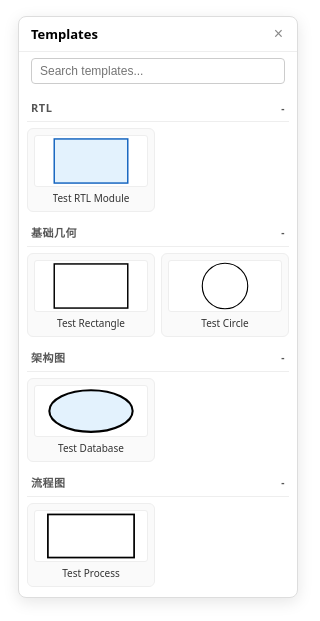
Test: TemplatePanel › collapses a category when header is clicked
Expected: the text "Test Circle" is shown, [201,316,249,330]
// Click category header to collapse
Click the text "基础几何" at (54, 232), box [31,224,77,240]
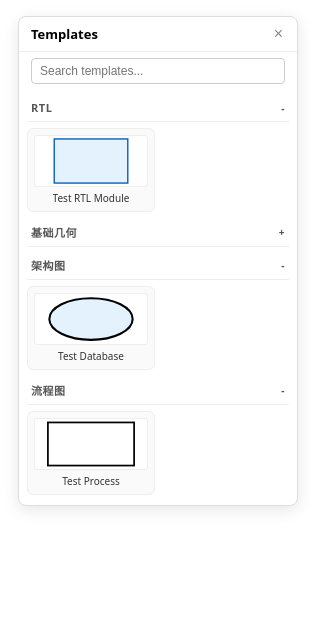
Expected: the text "Test Process" is shown, [62,474,120,488]
Result: the text "Test Circle" is gone
Result: the text "Test Rectangle" is gone
